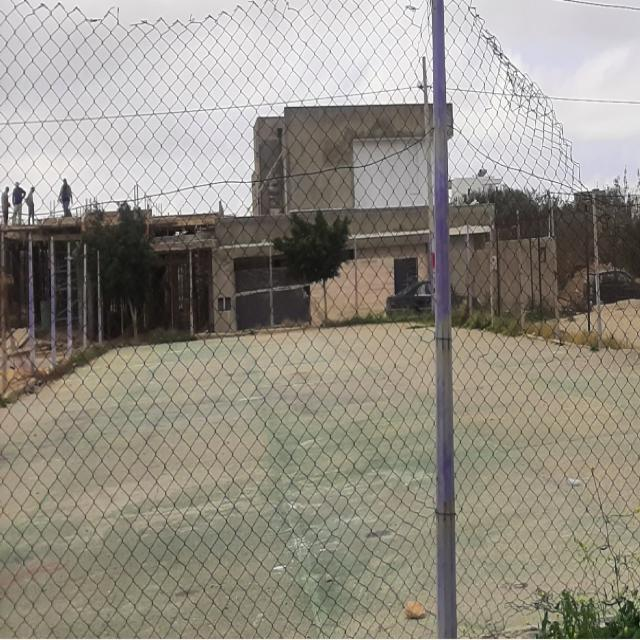fence line: (517, 50, 636, 250)
